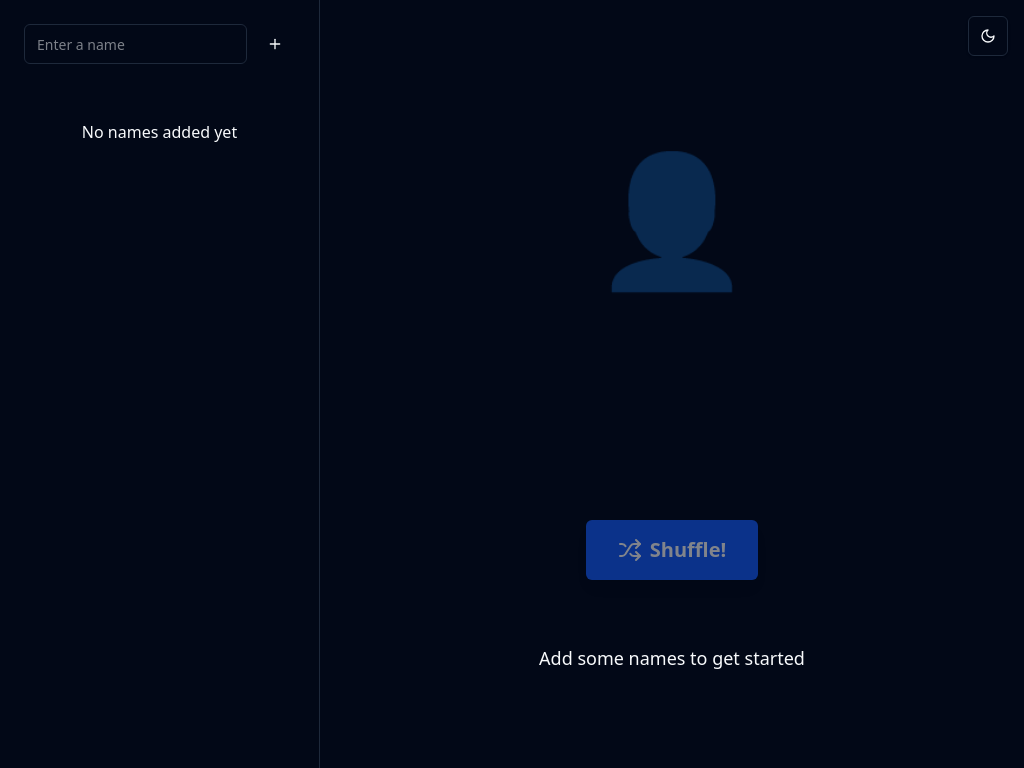
Test: App Component › adds a new name when clicking the plus button
The image size is (1024, 768).
Step 1. Type "Bob" into the field with placeholder "Enter a name" → (136, 44), box [24,24,247,64]
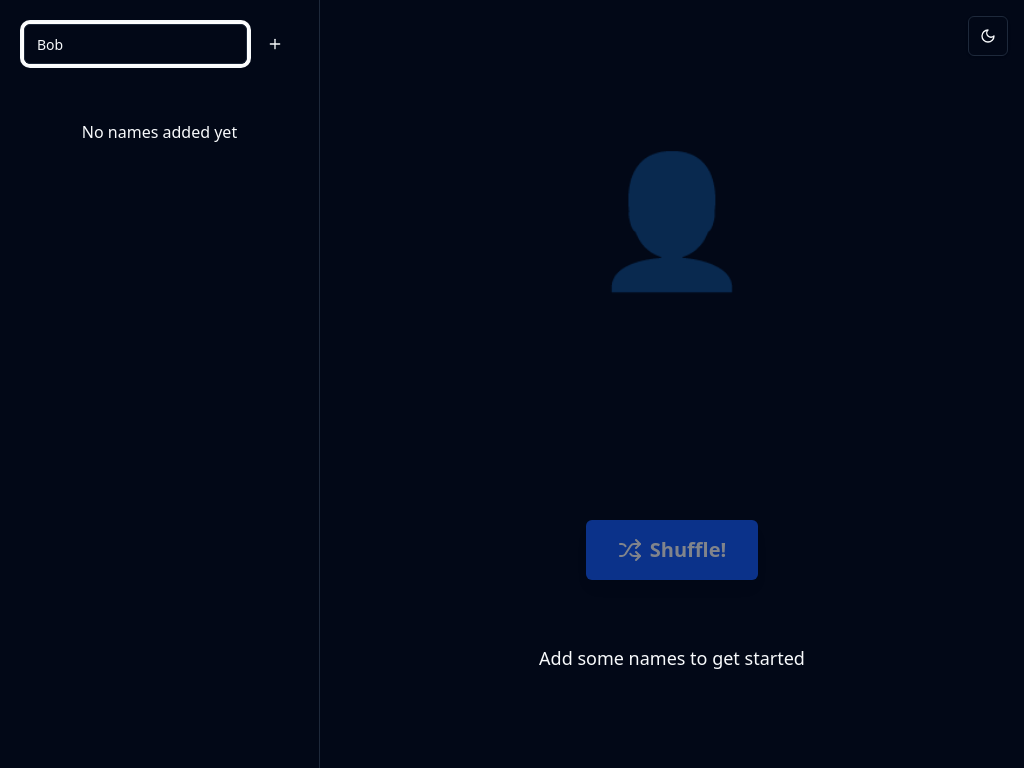
Step 2. Click the button named "plus" → click(275, 44), box [255,24,295,64]
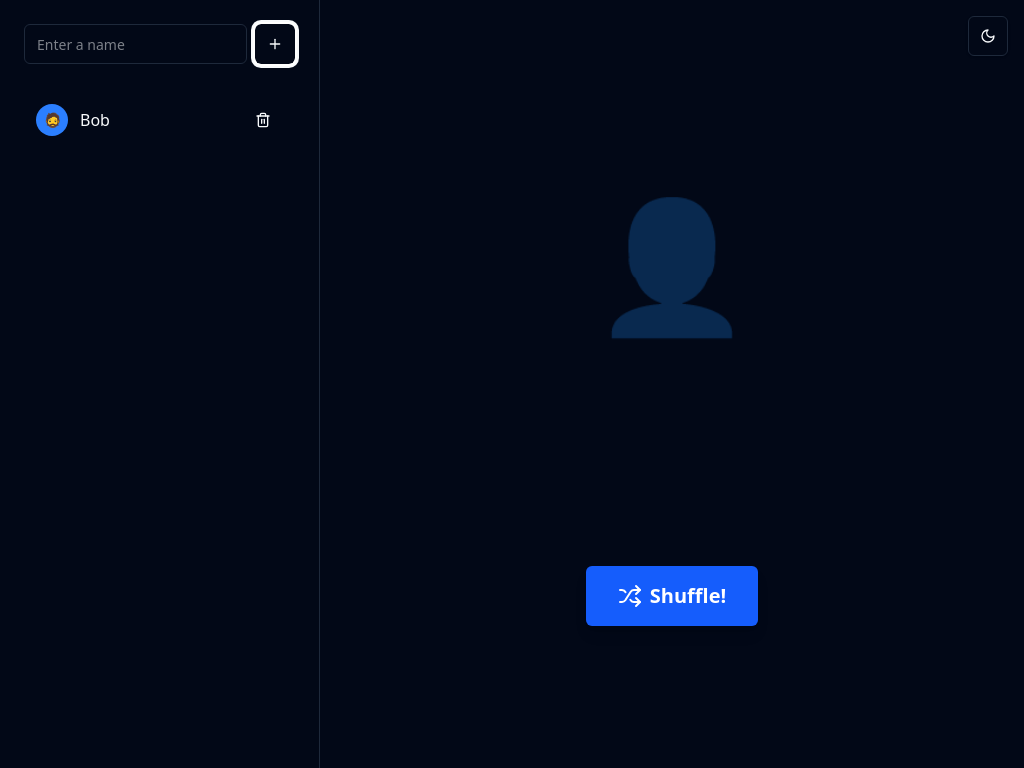
Expected: the text "Bob" is shown, [80,109,110,131]
Expected: the field with placeholder "Enter a name" is empty, [24,24,247,64]
